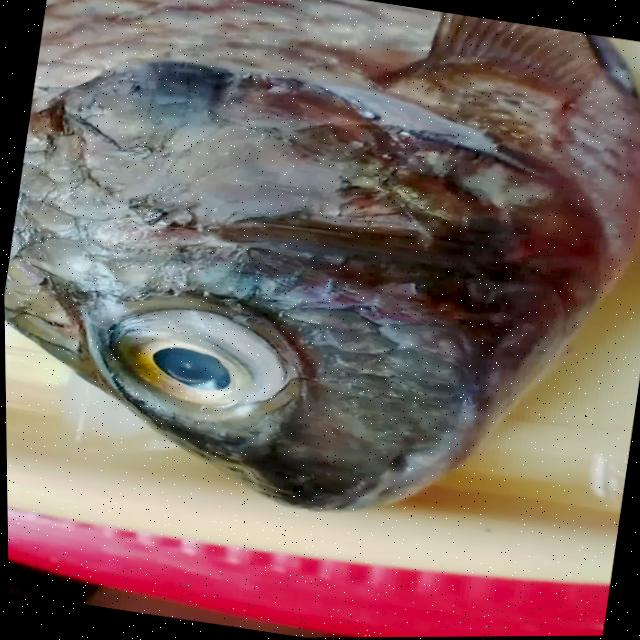Fresh: (48, 268, 342, 460)
